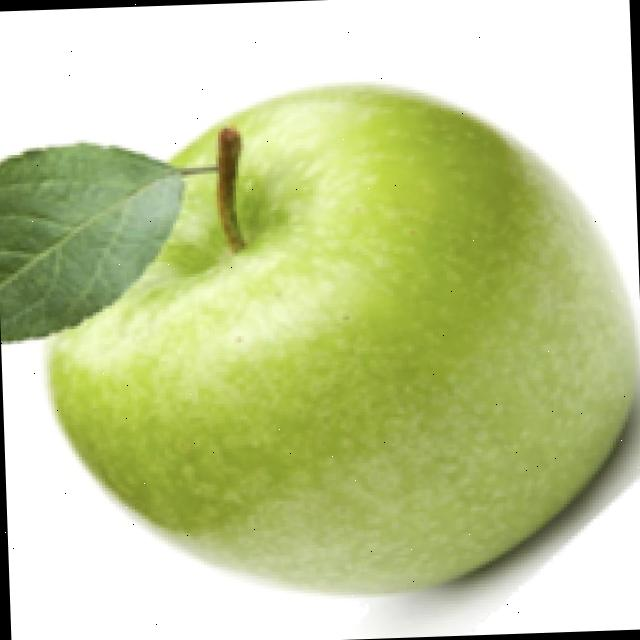apple: (0, 76, 640, 632)
